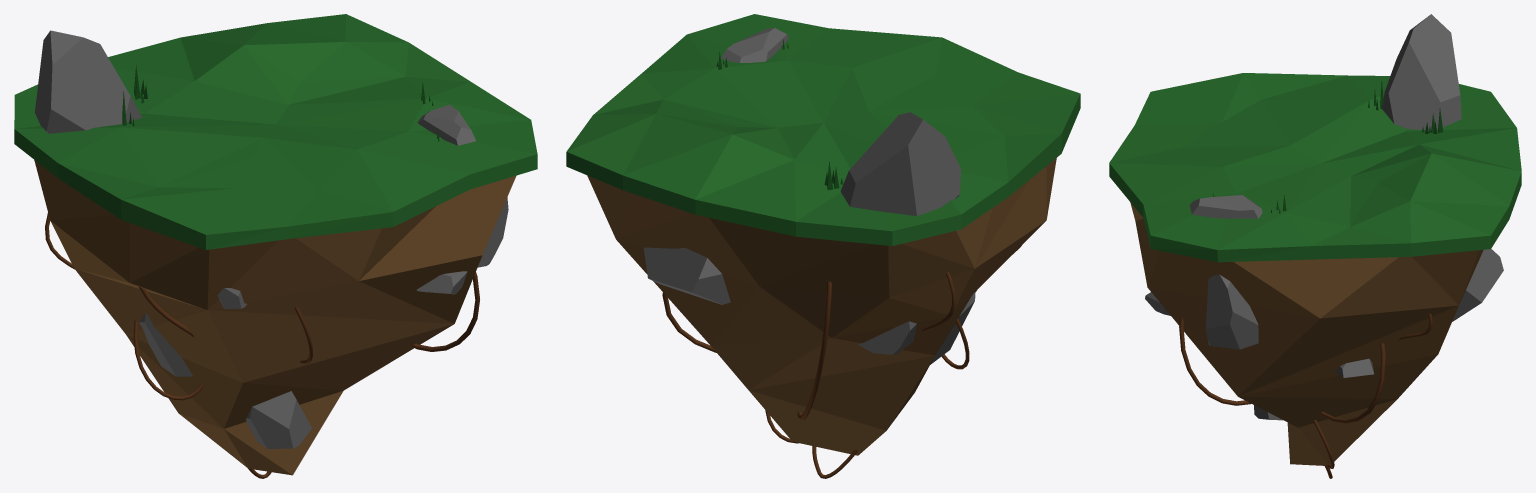
Rendered from island.fbx.
3 renders of one model, left to right at view 1: azimuth 30°, elevation 25°; view 2: azimuth 150°, elevation 25°; view 3: azimuth 270°, elevation 25°, orthographic. The views are drawn at different scales.
Parts seen in each view (by area): view 1: Island.Top, Island.Bot, Rock6, Rock8, Rock2, Rock3, Rock4, Rock9, Root 6, Root 10; view 2: Island.Top, Island.Bot, Rock6, Rock1, Rock2, Rock5, Root 9, Rock3; view 3: Island.Top, Island.Bot, Rock6, Rock9, Rock1, Rock2, Root 7, Root 6, Rock10.
Part boxes in pixels (x1,y1,x2,y2): Island.Top: (14, 14, 537, 249); Island.Bot: (34, 160, 516, 475); Rock6: (35, 30, 142, 133); Rock8: (246, 391, 312, 448); Rock2: (417, 104, 475, 145); Rock3: (139, 313, 192, 376); Rock4: (416, 271, 467, 294); Rock9: (477, 197, 508, 267); Root 6: (411, 272, 479, 351); Root 10: (133, 320, 203, 400); Island.Top: (566, 14, 1080, 245); Island.Bot: (587, 158, 1056, 455); Rock6: (840, 112, 961, 216); Rock1: (643, 247, 730, 304); Rock2: (721, 28, 789, 62); Rock5: (858, 321, 916, 354); Root 9: (797, 281, 831, 420); Rock3: (930, 292, 975, 364); Island.Top: (1109, 73, 1521, 262); Island.Bot: (1130, 202, 1483, 465); Rock6: (1382, 14, 1461, 130); Rock9: (1206, 274, 1258, 349); Rock1: (1452, 249, 1503, 321); Rock2: (1189, 195, 1262, 218); Root 7: (1320, 343, 1385, 423); Root 6: (1179, 317, 1250, 405); Rock10: (1335, 358, 1374, 377).
Size of the model in its own units: 184 by 195 by 185.
